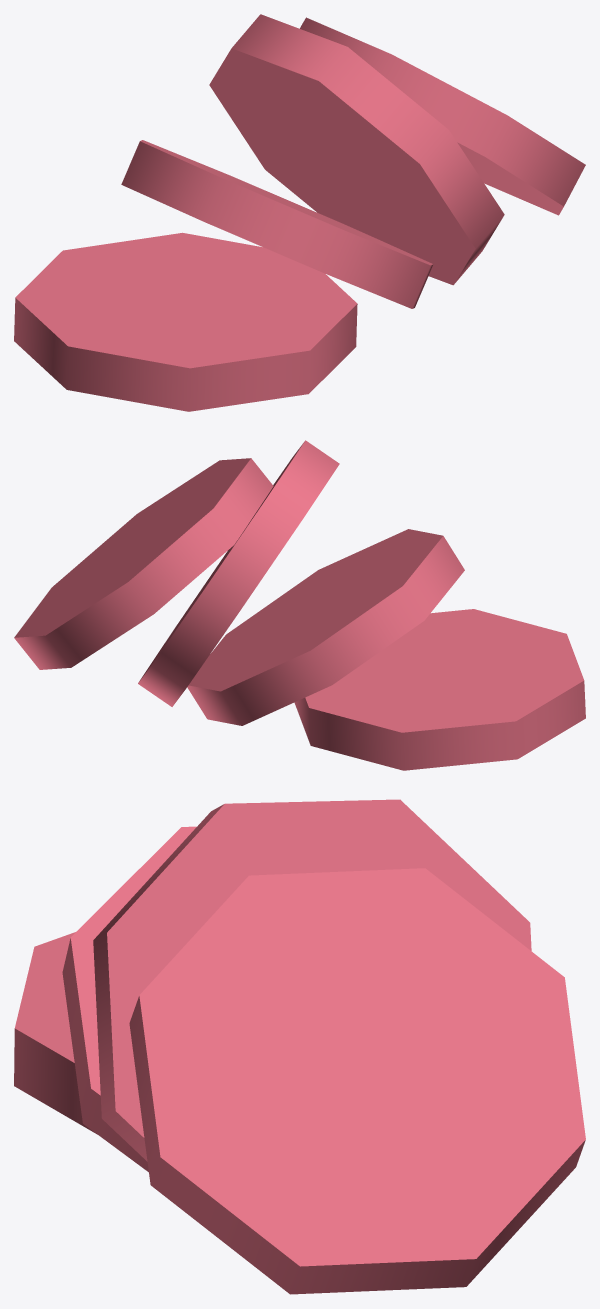
File: Sausage.fbx
3 views of the same model, one above another, from view 1: azimuth 30°, elevation 25°; view 2: azimuth 150°, elevation 25°; view 3: azimuth 270°, elevation 25° (orthographic). The views are drawn at different scales.
Parts seen in each view (by area): view 1: Cylinder.021; view 2: Cylinder.021; view 3: Cylinder.021.
Boxes of the visible parts, x1=… form: Cylinder.021: x1=14, y1=14, x2=585, y2=411; Cylinder.021: x1=14, y1=440, x2=585, y2=770; Cylinder.021: x1=14, y1=799, x2=585, y2=1294.
Size of the model in its own units: 32.25 by 15.51 by 20.81.
